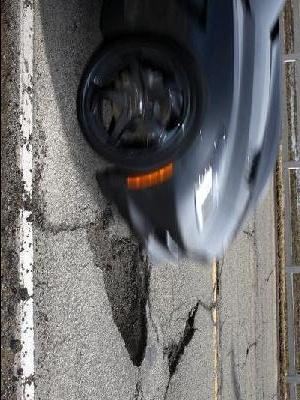pothole: (85, 204, 152, 368), (165, 309, 199, 377)
